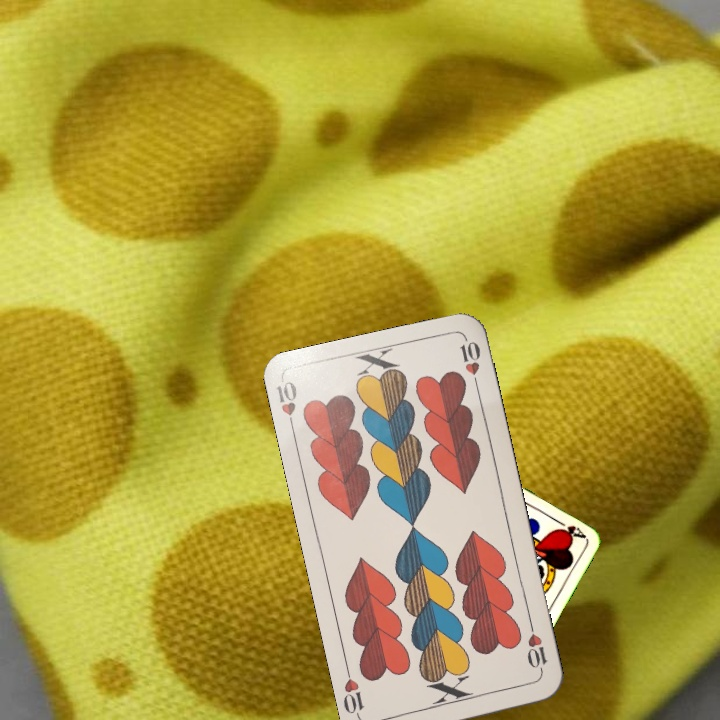H10: (272, 377, 300, 436), (523, 619, 550, 678)
HA: (550, 514, 587, 541)
